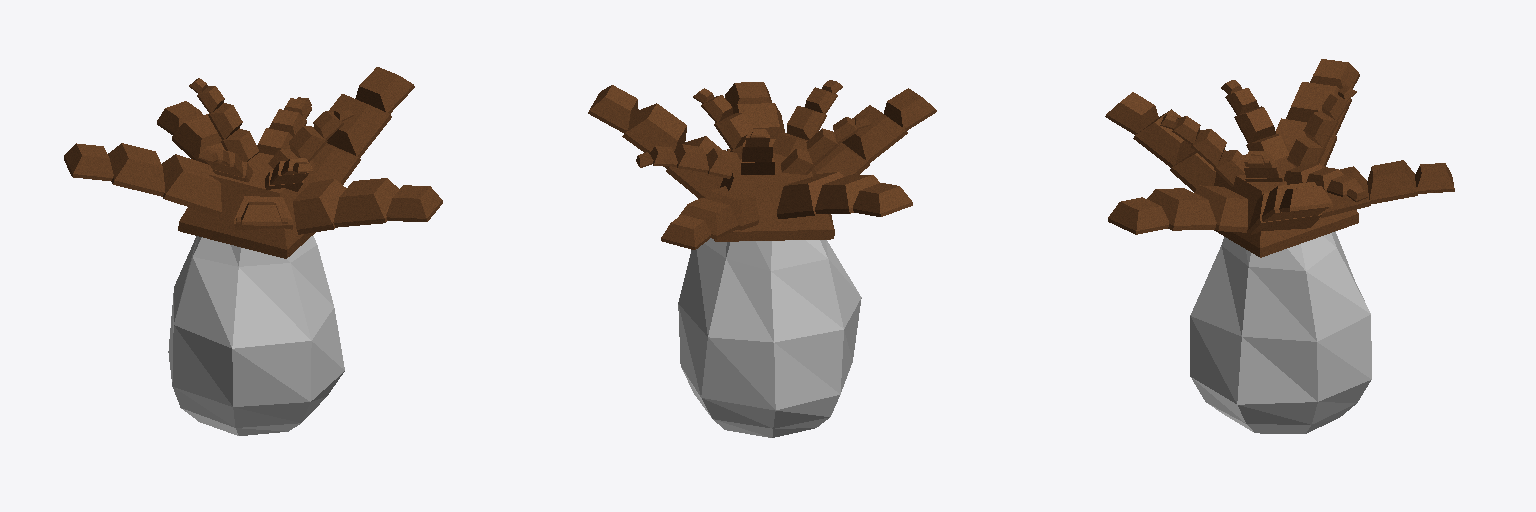
3 views of the same model, side by side, from view 1: azimuth 30°, elevation 25°; view 2: azimuth 150°, elevation 25°; view 3: azimuth 270°, elevation 25° (orthographic).
Visible parts, largest first — view 1: Cube_Cube.001, Cylinder; view 2: Cube_Cube.001, Cylinder; view 3: Cube_Cube.001, Cylinder.
Boxes of the visible parts, x1=… form: Cube_Cube.001: x1=64, y1=67, x2=442, y2=258; Cylinder: x1=168, y1=236, x2=344, y2=435; Cube_Cube.001: x1=588, y1=80, x2=936, y2=249; Cylinder: x1=678, y1=238, x2=861, y2=437; Cube_Cube.001: x1=1105, y1=59, x2=1454, y2=257; Cylinder: x1=1190, y1=231, x2=1371, y2=433.
Size of the model in its own units: 1.67 by 1.53 by 1.53.
2 materials, 1 textured.